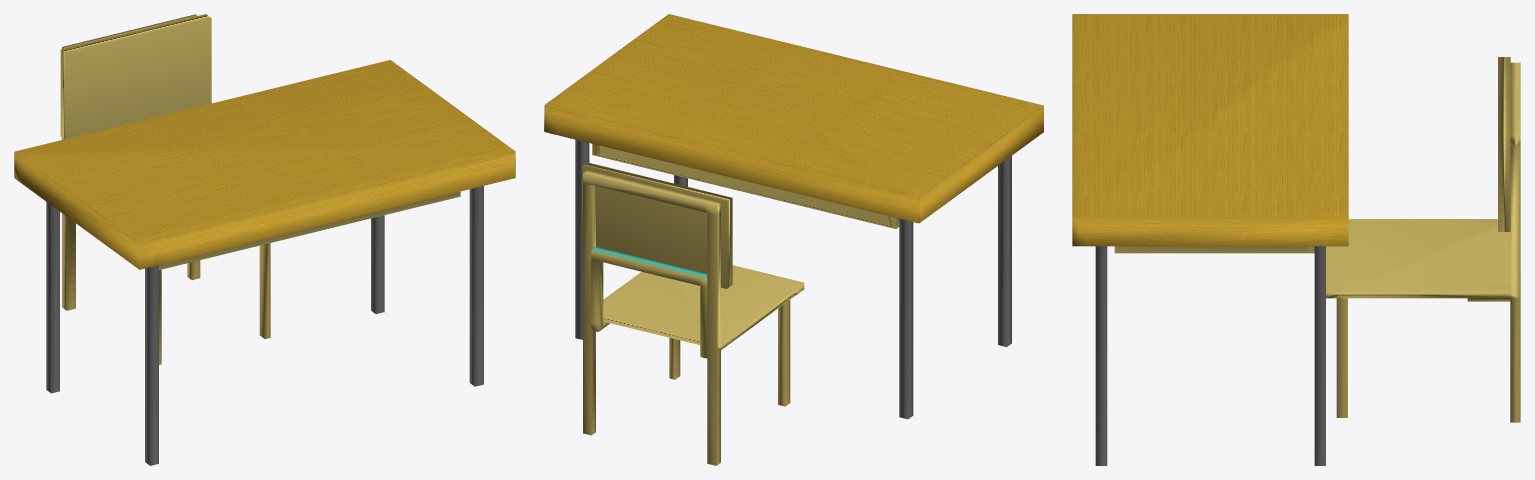
File: CharDesk.fbx
3 renders of one model, left to right at view 1: azimuth 30°, elevation 25°; view 2: azimuth 150°, elevation 25°; view 3: azimuth 270°, elevation 25°, orthographic. The views are drawn at different scales.
Visible parts, largest first — view 1: pCube1, polySurface1; view 2: pCube1, polySurface1; view 3: pCube1, polySurface1.
Part boxes in pixels (x1,y1,x2,y2): pCube1: (14, 60, 515, 465); polySurface1: (60, 14, 270, 364); pCube1: (544, 14, 1043, 419); polySurface1: (582, 162, 804, 465); pCube1: (1072, 14, 1348, 465); polySurface1: (1326, 57, 1520, 422).
Size of the model in its own units: 56.21 by 37.53 by 52.52.
